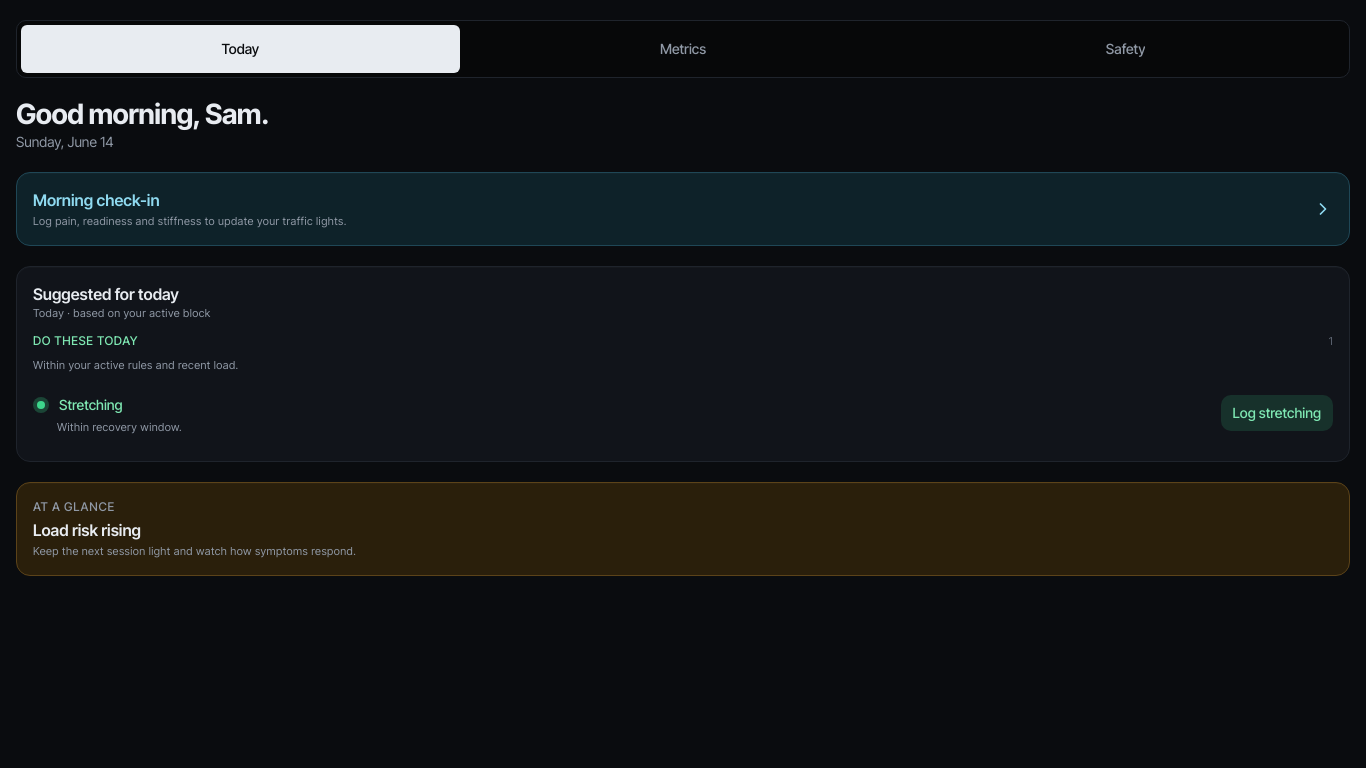
Test case: DashboardScreen dashboard tabs › shows only weekly targets and goals on the Metrics tab
This screenshot has width=1366, height=768.
Click the radio button labelled "Metrics" at (683, 49), box [464, 25, 902, 73]
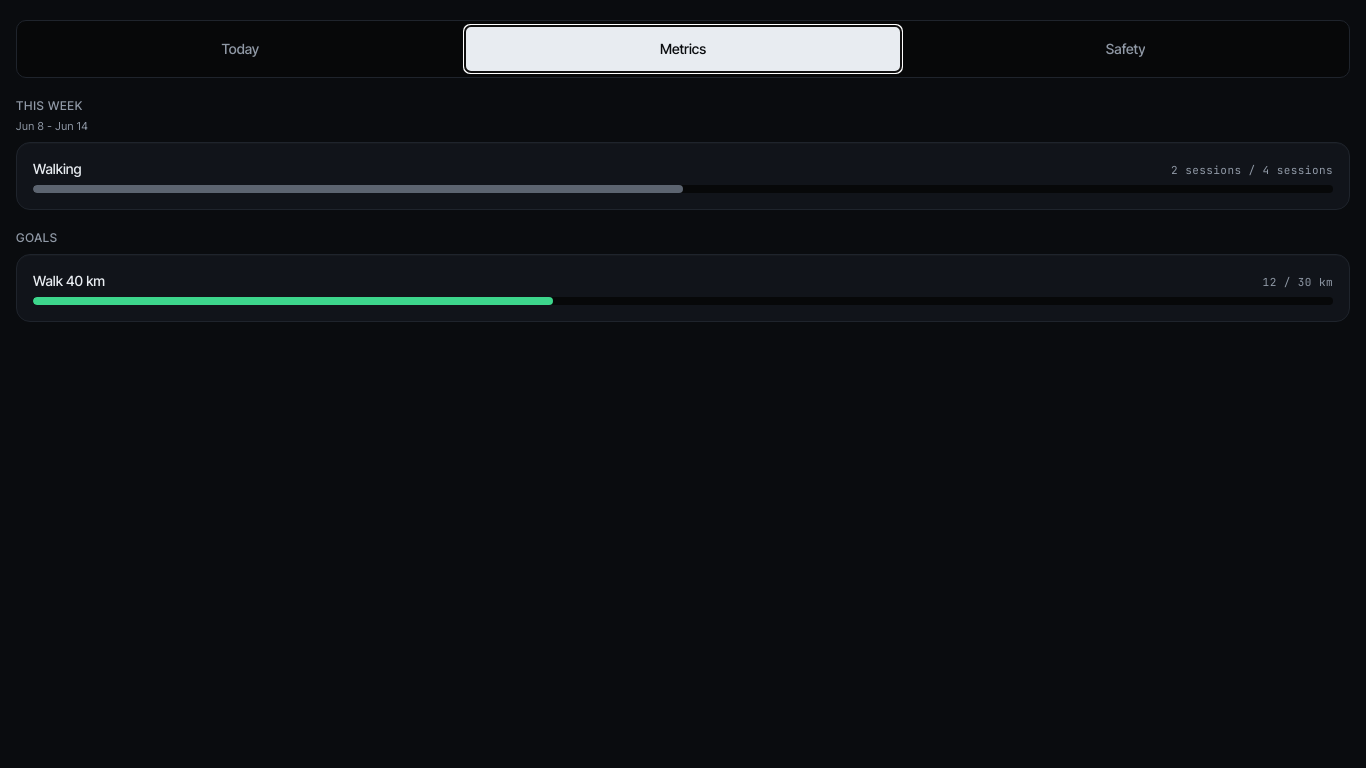
expect the text "This week" is shown: met, box [16, 98, 83, 113]
expect the text "Walking" is shown: met, box [33, 159, 82, 179]
expect the element with test id "goals-card" is shown: met, box [16, 230, 1350, 322]
